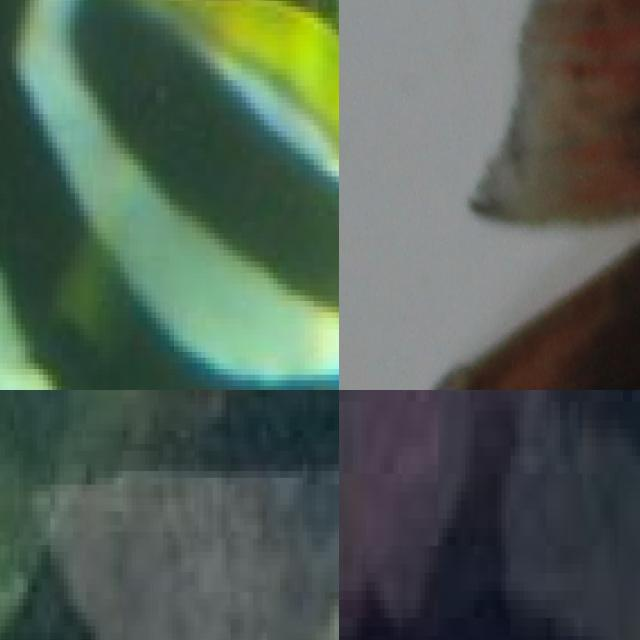fish: (0, 0, 339, 390), (339, 0, 640, 390)
